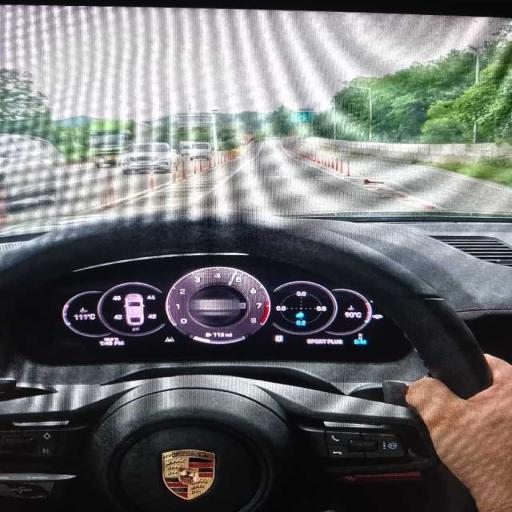car: (0, 0, 511, 511), (0, 134, 64, 211), (121, 143, 178, 174), (124, 294, 144, 325), (188, 142, 212, 160), (179, 141, 194, 157)
lane: (0, 140, 511, 232), (223, 141, 430, 215), (321, 149, 511, 211)
person: (406, 355, 511, 511)
truck: (89, 120, 149, 167)
